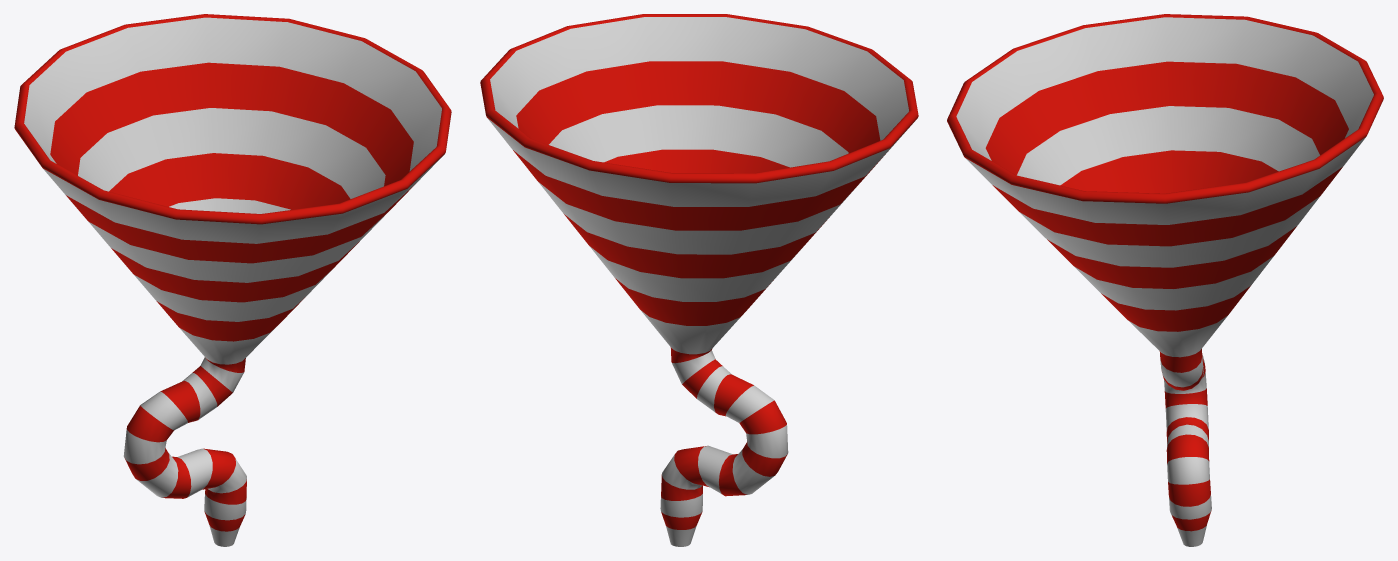
3 views of the same model, side by side, from view 1: azimuth 30°, elevation 25°; view 2: azimuth 150°, elevation 25°; view 3: azimuth 270°, elevation 25° (orthographic).
Visible parts, largest first — view 1: Cone; view 2: Cone; view 3: Cone.
Boxes of the visible parts, x1,y1,x2,y2 form: Cone: (14,14,451,546); Cone: (480,14,918,546); Cone: (947,14,1383,546).
Size of the model in its own units: 1255 by 1416 by 1253.
